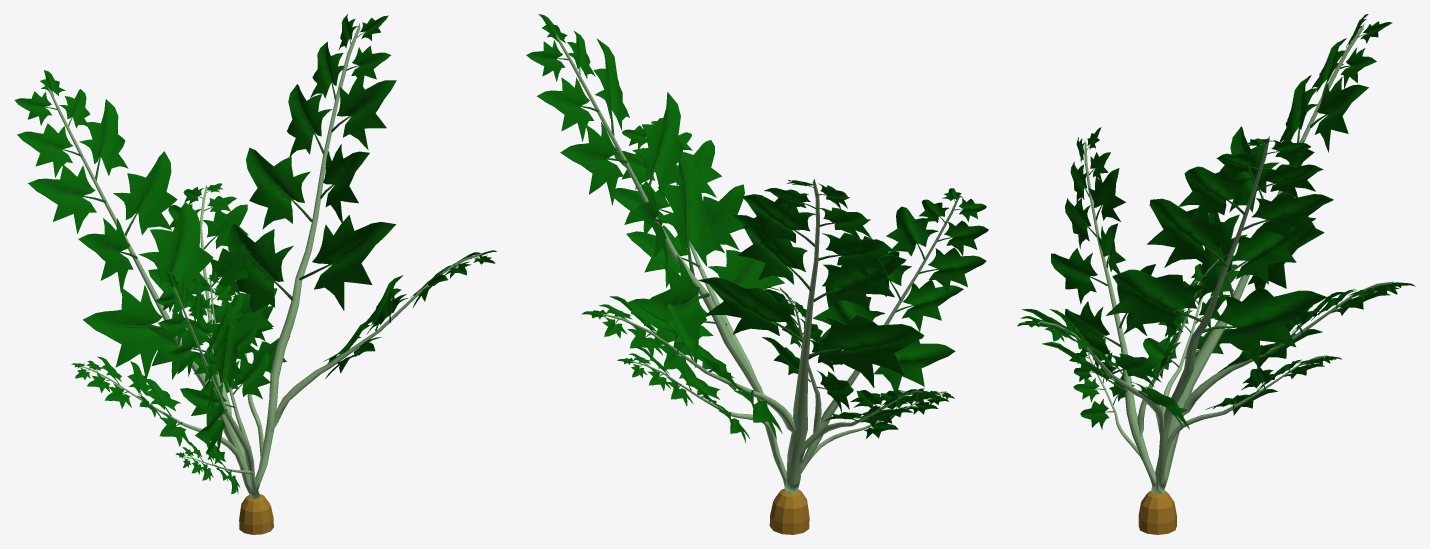
File: carrot_st3.fbx
The picture shows the model from 3 angles, left to right: view 1: azimuth 30°, elevation 25°; view 2: azimuth 150°, elevation 25°; view 3: azimuth 270°, elevation 25°; orthographic projection. The views are drawn at different scales.
Parts seen in each view (by area): view 1: st5_pSphere1; view 2: st5_pSphere1; view 3: st5_pSphere1.
Boxes of the visible parts, x1=… form: st5_pSphere1: x1=14, y1=14, x2=496, y2=534; st5_pSphere1: x1=526, y1=14, x2=988, y2=534; st5_pSphere1: x1=1017, y1=14, x2=1415, y2=534.
Size of the model in its own units: 2.95 by 3.49 by 2.61.
